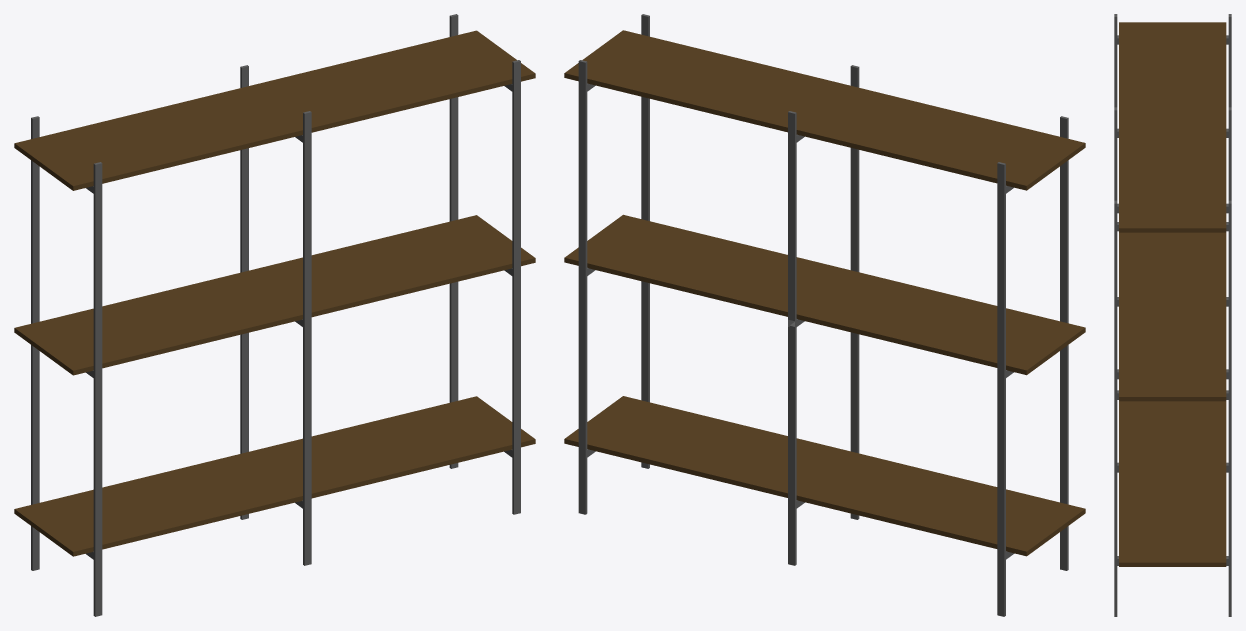
Rendered from Estanteria_No_Noise (1).fbx.
3 views of the same model, side by side, from view 1: azimuth 30°, elevation 25°; view 2: azimuth 150°, elevation 25°; view 3: azimuth 270°, elevation 25° (orthographic). The views are drawn at different scales.
Parts seen in each view (by area): view 1: Object187; view 2: Object187; view 3: Object187.
Part boxes in pixels (left/top/right/bottom): Object187: left=14, top=14, right=535, bottom=616; Object187: left=564, top=14, right=1085, bottom=616; Object187: left=1114, top=14, right=1231, bottom=616.
Size of the model in its own units: 37.35 by 34.91 by 8.99.
